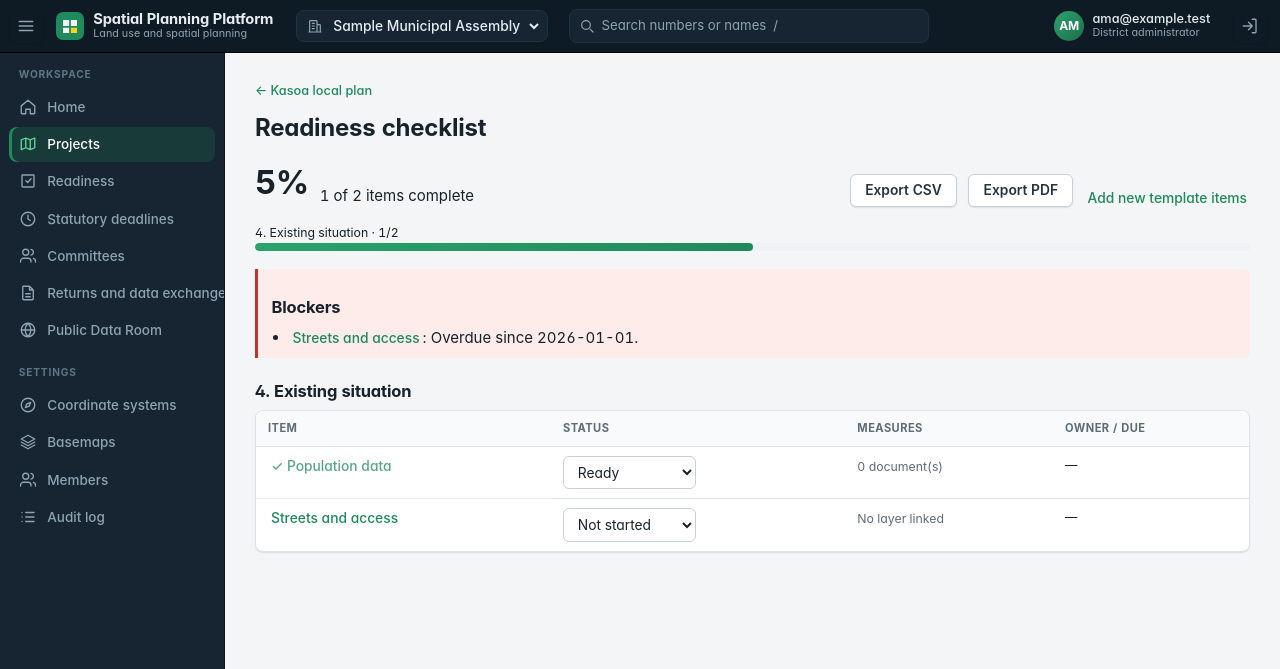
it: checklist page › offers import, export, draw and a disabled send-to-field on layer items
This screenshot has width=1280, height=669.
Click the button "Streets and access" in the row of "No layer linked": (335, 519) [268, 510, 401, 527]
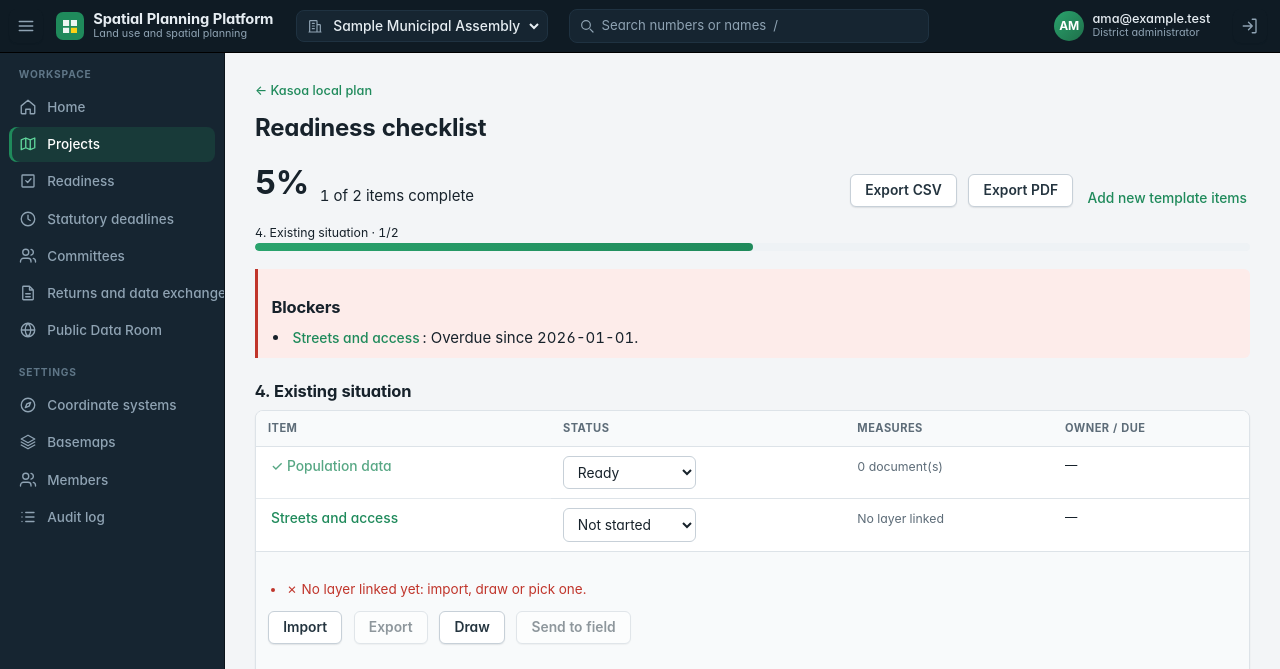
Now the button "Import" is enabled, box [268, 611, 342, 644]
Now the button "Export" is disabled, box [354, 611, 428, 644]
Now the button "Draw" is enabled, box [439, 611, 505, 644]
